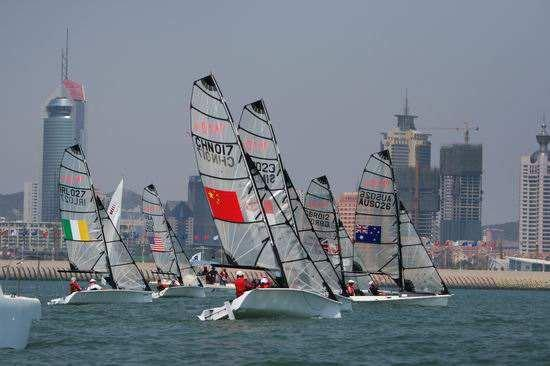fanchuan: (196, 60, 340, 328), (49, 139, 154, 306), (350, 148, 449, 308), (140, 181, 208, 296)
